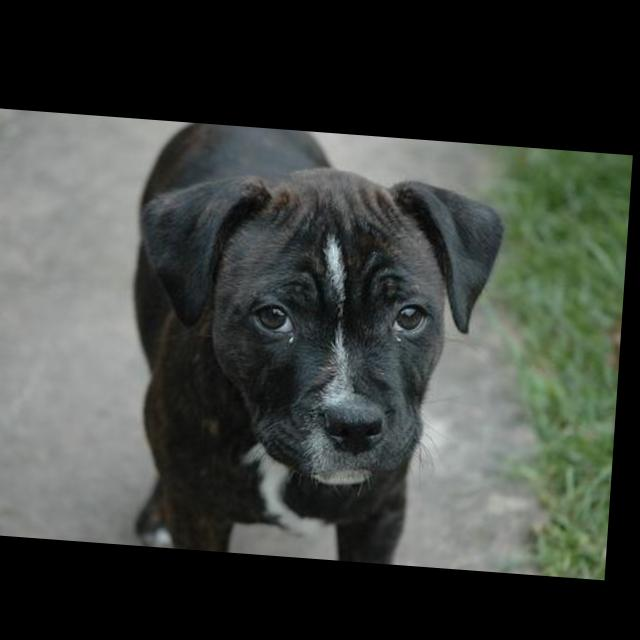amstaff: (124, 117, 513, 564)
